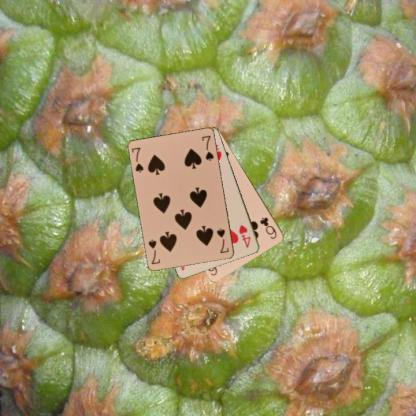4h: (236, 222, 252, 249)
6c: (258, 214, 278, 241)
7s: (214, 225, 230, 255), (129, 144, 145, 174)
